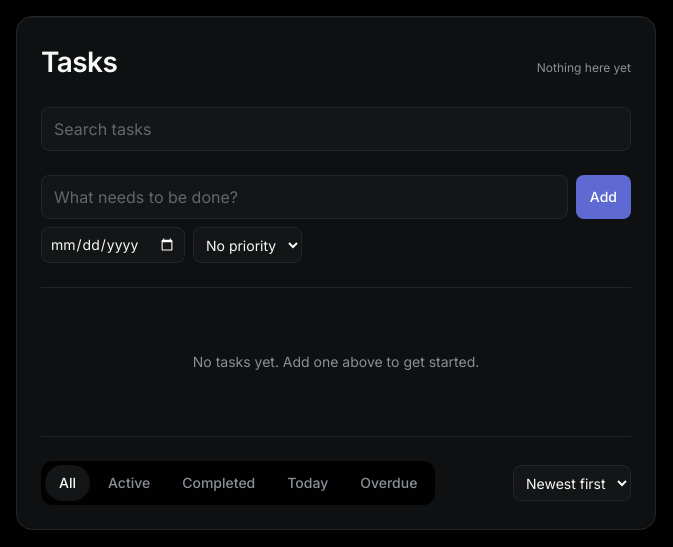
Test: todo app › adds a task and clears the input
In the field named "New task": coordinates (304, 197) [41, 175, 568, 219], type "Buy milk"
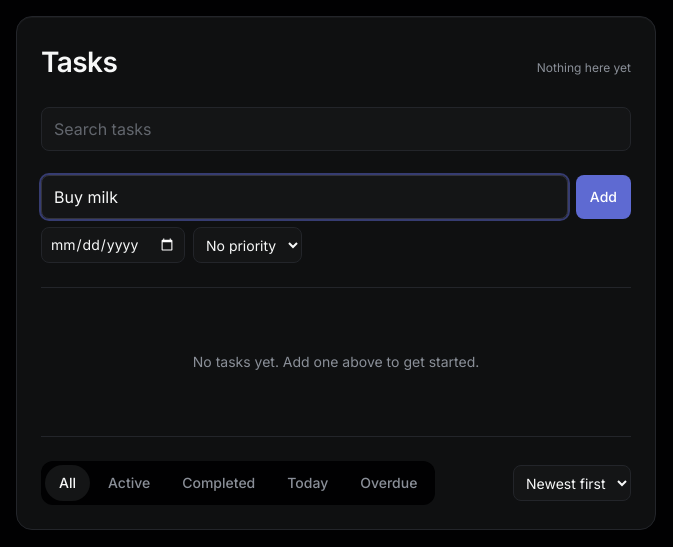
Click the button "Add": coordinates (603, 197) [576, 175, 631, 219]
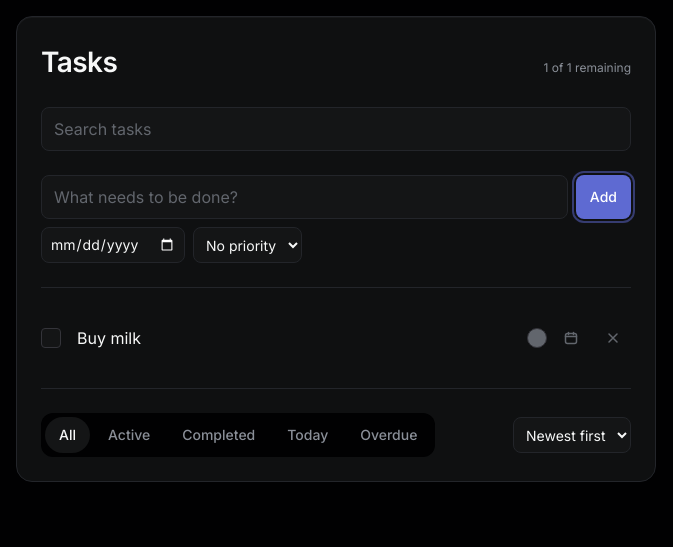
Expected: the button "Buy milk" is shown, [69, 320, 519, 356]
Expected: the field named "New task" is empty, [41, 175, 568, 219]
Expected: the text "1 of 1 remaining" is shown, [544, 60, 631, 76]
